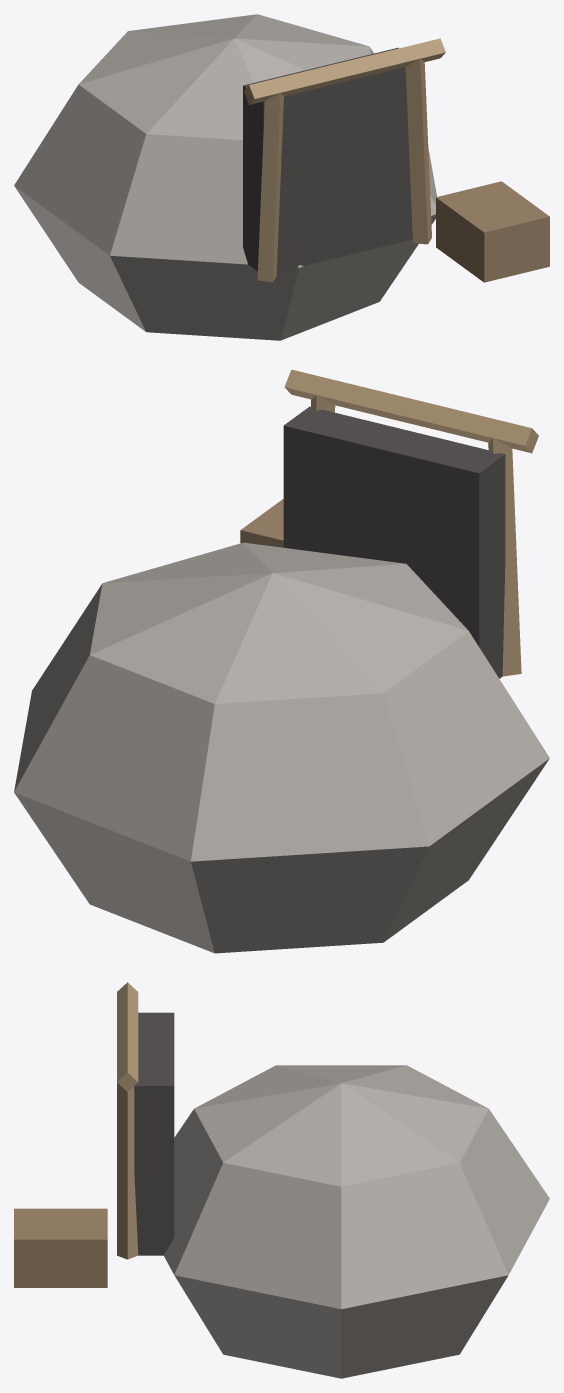
3 views of the same model, one above another, from view 1: azimuth 30°, elevation 25°; view 2: azimuth 150°, elevation 25°; view 3: azimuth 270°, elevation 25° (orthographic). The views are drawn at different scales.
Visible parts, largest first — view 1: body; view 2: body; view 3: body.
Boxes of the visible parts, bbox=[...] form: body: bbox=[14, 14, 549, 340]; body: bbox=[14, 369, 549, 953]; body: bbox=[14, 982, 549, 1378].
Size of the model in its own units: 6.08 by 5.4 by 8.02.
